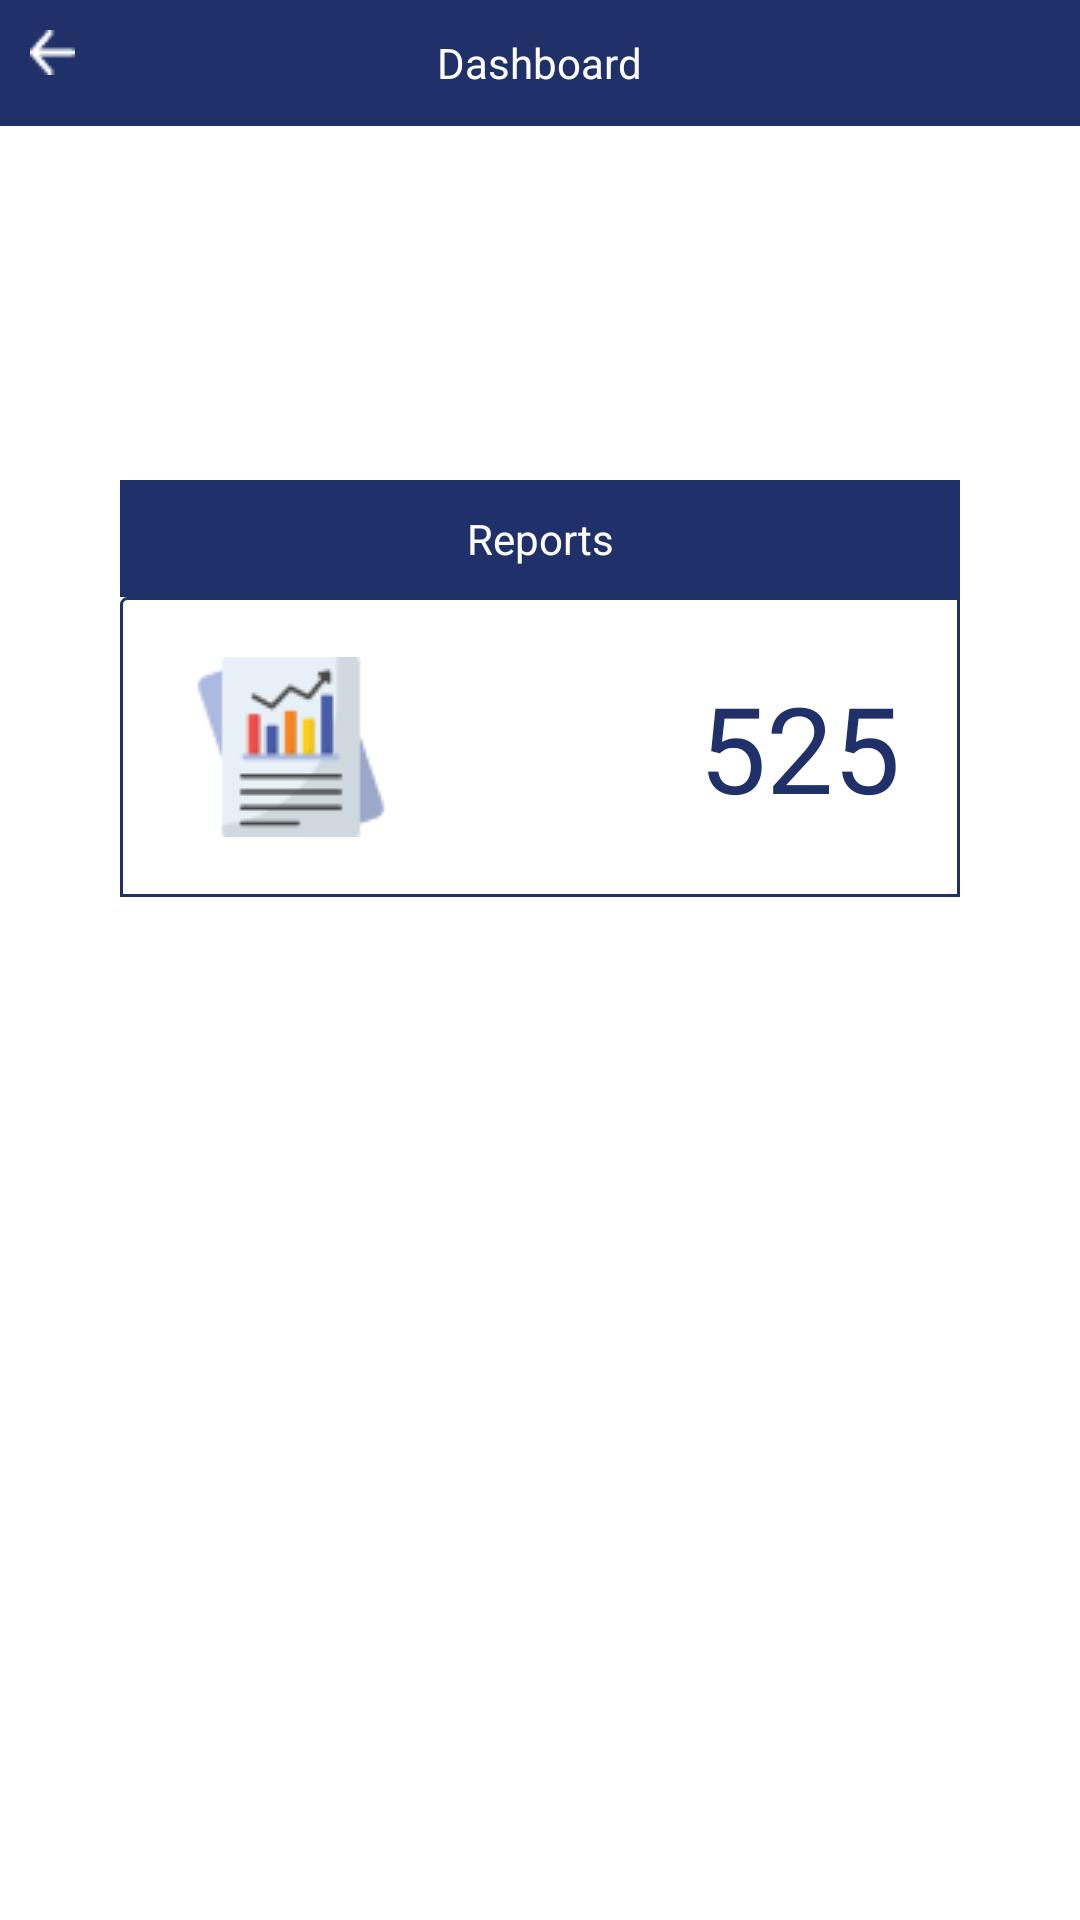

Where icons sit on this 1080 × 1920 app screen, as (x1, y1, x2, y2):
back arrow: (30, 30, 75, 75)
